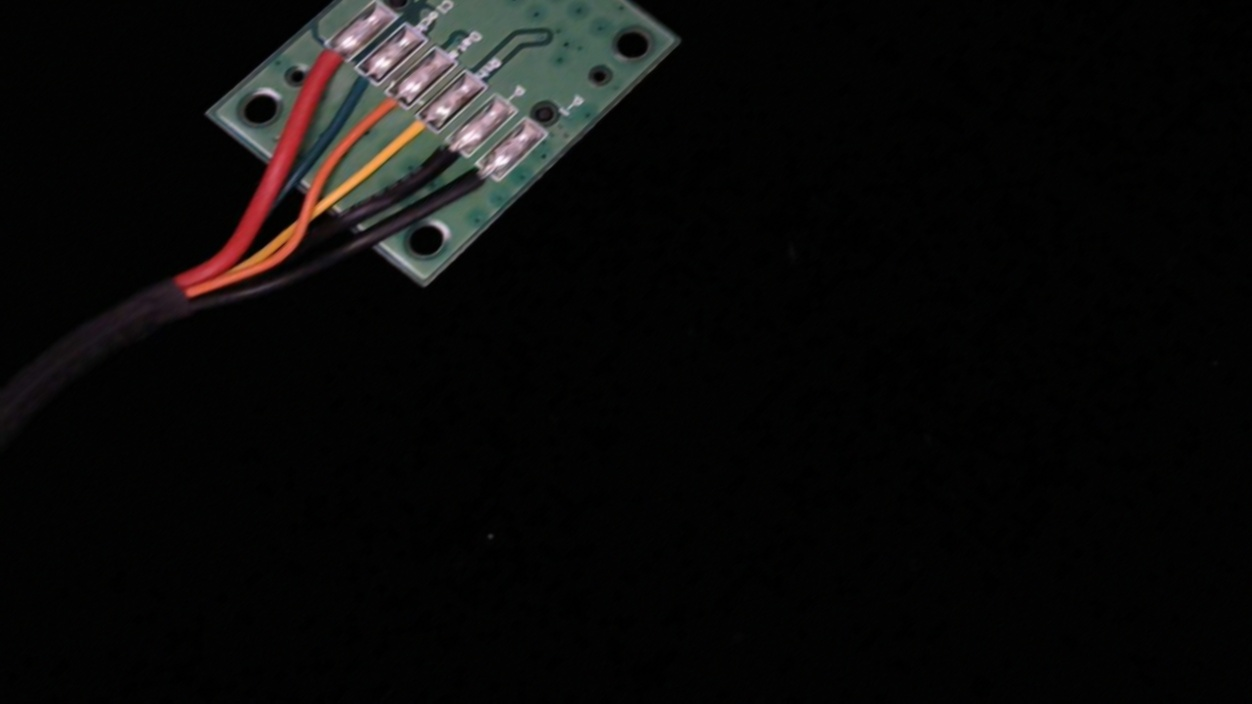Black: (402, 128, 478, 192)
Black1: (435, 153, 511, 217)
Green: (318, 58, 393, 117)
Orange: (347, 81, 422, 142)
Red: (283, 34, 361, 95)
Yellow: (370, 104, 451, 171)
